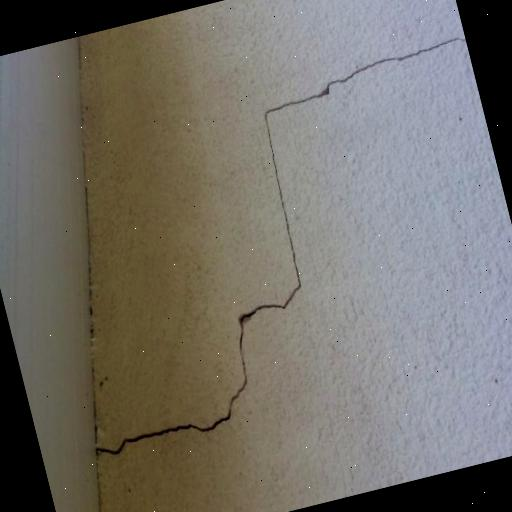spalling: (103, 28, 465, 467)
